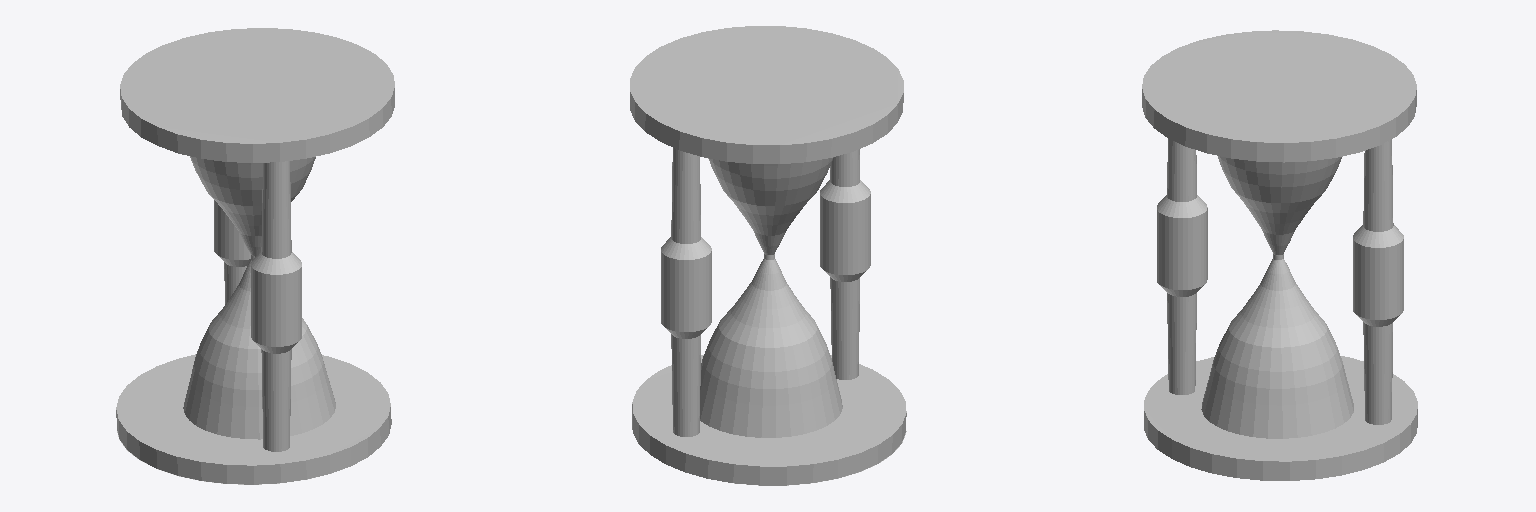
Rendered from Hourglass.obj.
3 views of the same model, side by side, from view 1: azimuth 30°, elevation 25°; view 2: azimuth 150°, elevation 25°; view 3: azimuth 270°, elevation 25° (orthographic).
Bounding box in the file's own units: 3.92 × 5.33 × 3.88.